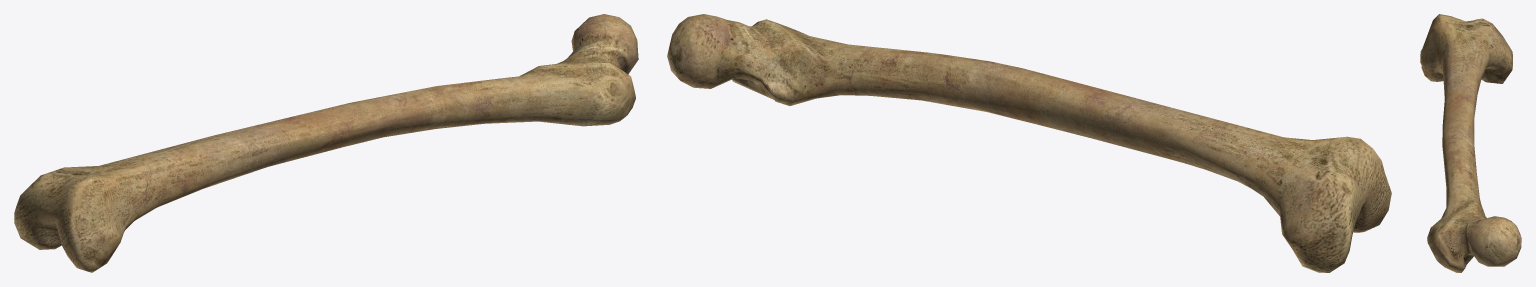
Rendered from realbone.glb.
3 renders of one model, left to right at view 1: azimuth 30°, elevation 25°; view 2: azimuth 150°, elevation 25°; view 3: azimuth 270°, elevation 25°, orthographic. The views are drawn at different scales.
Parts seen in each view (by area): view 1: Group42209; view 2: Group42209; view 3: Group42209.
Part boxes in pixels (x1,y1,x2,y2): Group42209: [14, 14, 638, 272]; Group42209: [667, 14, 1391, 272]; Group42209: [1420, 14, 1521, 272].
Bounding box in the file's own units: 0.35 × 0.0509 × 0.0663.
Materials: 1 (1 with a texture image).
